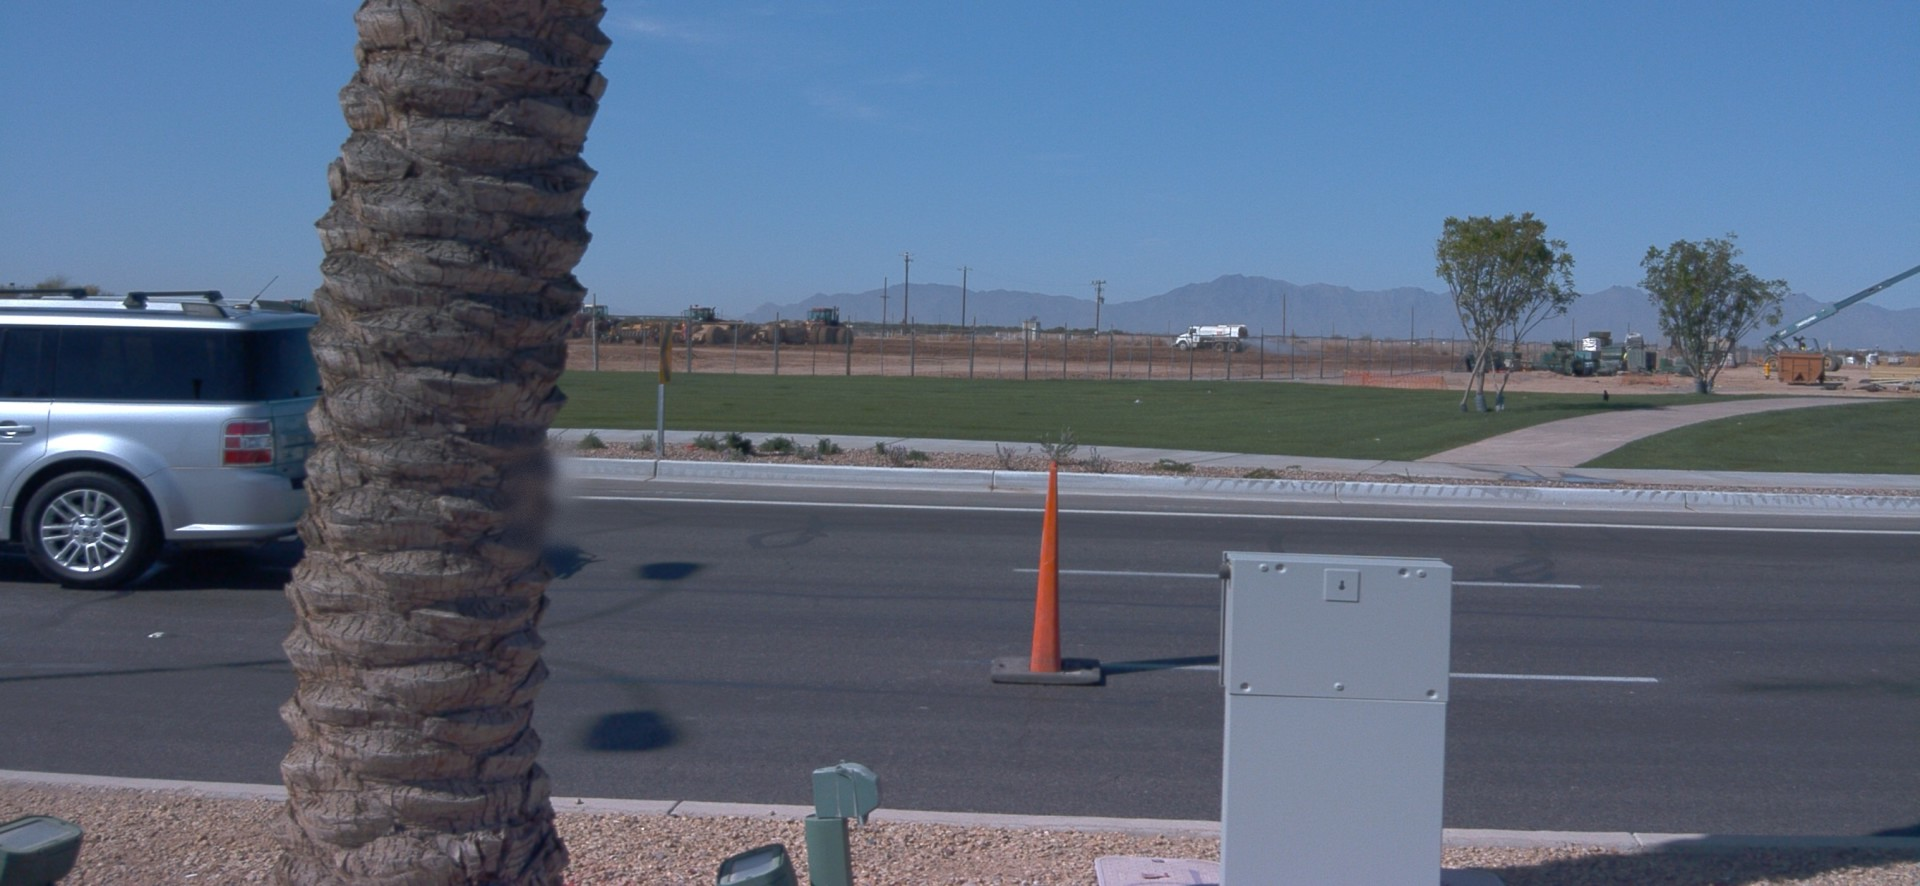TYPE_VEHICLE: (1, 288, 327, 585), (1758, 261, 1918, 372), (790, 303, 854, 345), (606, 310, 675, 348), (1174, 324, 1251, 355), (676, 299, 723, 345), (571, 303, 620, 343), (692, 320, 767, 344), (279, 295, 321, 314)
